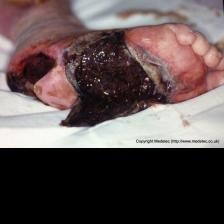Wound: (58, 41, 171, 130), (3, 52, 56, 99)
